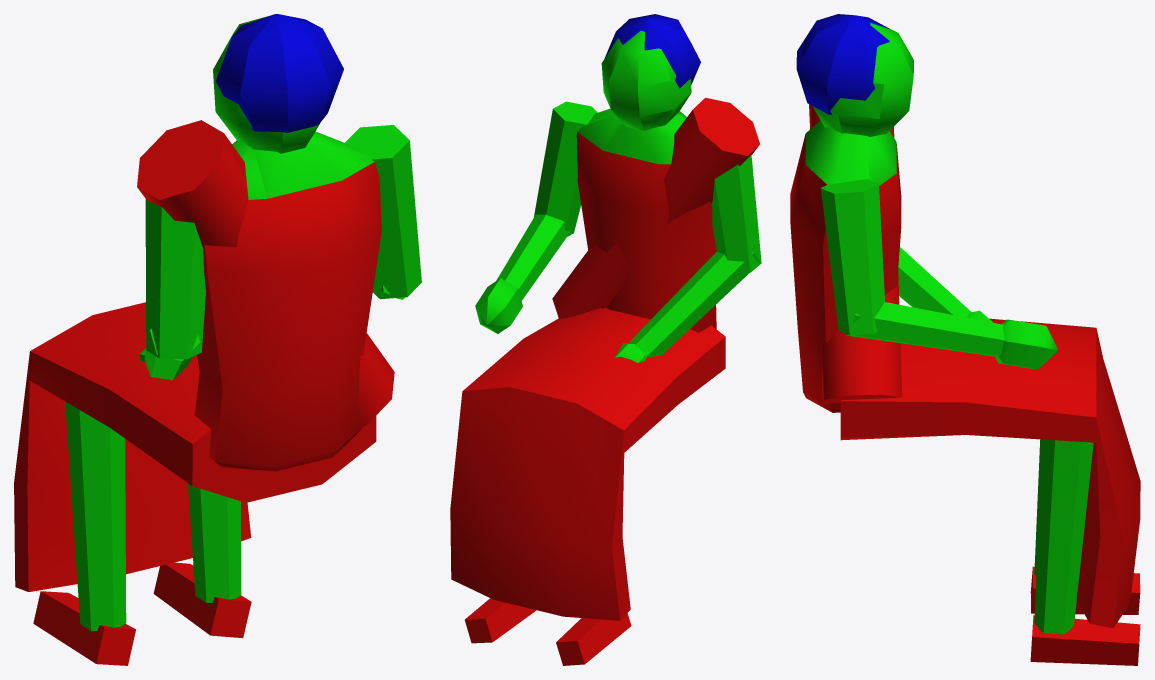
The model's file is noble_sit.glb.
3 views of the same model, side by side, from view 1: azimuth 30°, elevation 25°; view 2: azimuth 150°, elevation 25°; view 3: azimuth 270°, elevation 25° (orthographic). The views are drawn at different scales.
Visible parts, largest first — view 1: OUT; view 2: OUT; view 3: OUT.
Part boxes in pixels (<box>): OUT: <box>14,14,421,665</box>; OUT: <box>450,14,761,665</box>; OUT: <box>790,14,1140,665</box>.
Size of the model in its own units: 0.5299 by 1.31 by 0.6707.
